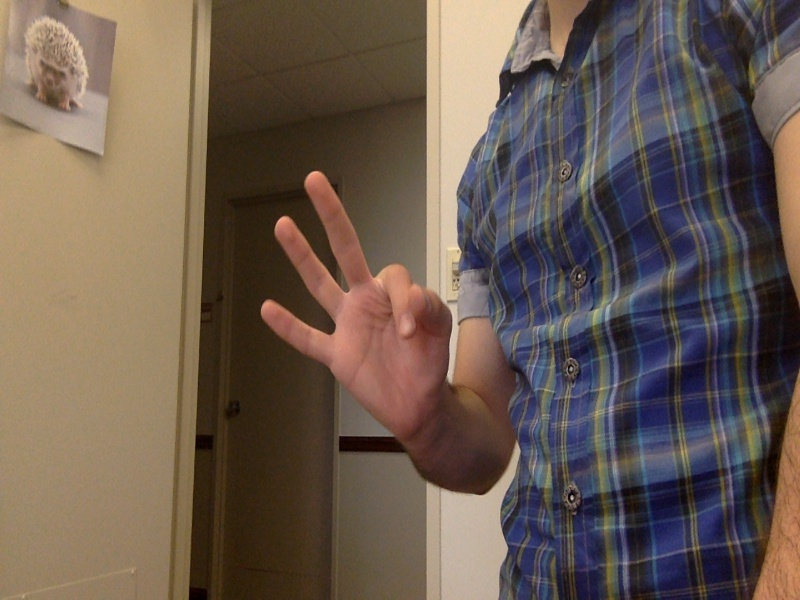3-hand: (260, 171, 456, 455)
